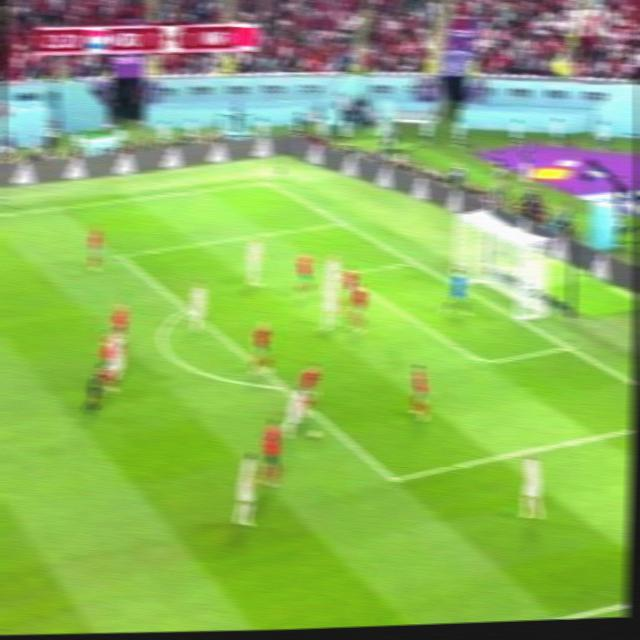bigarea_bottom_inner: (383, 465, 403, 491)
bigarea_top_inner: (110, 246, 127, 263)
bigarea_top_outter: (333, 217, 346, 228)
bottom_arc_area_intersection: (273, 378, 289, 395)
corner: (257, 178, 270, 186)
smallarea_bottom_inner: (473, 352, 491, 373)
smallarea_bottom_outter: (559, 338, 576, 354)
smallarea_top_outter: (404, 255, 419, 268)
top_arc_area_intersection: (177, 299, 193, 316)
